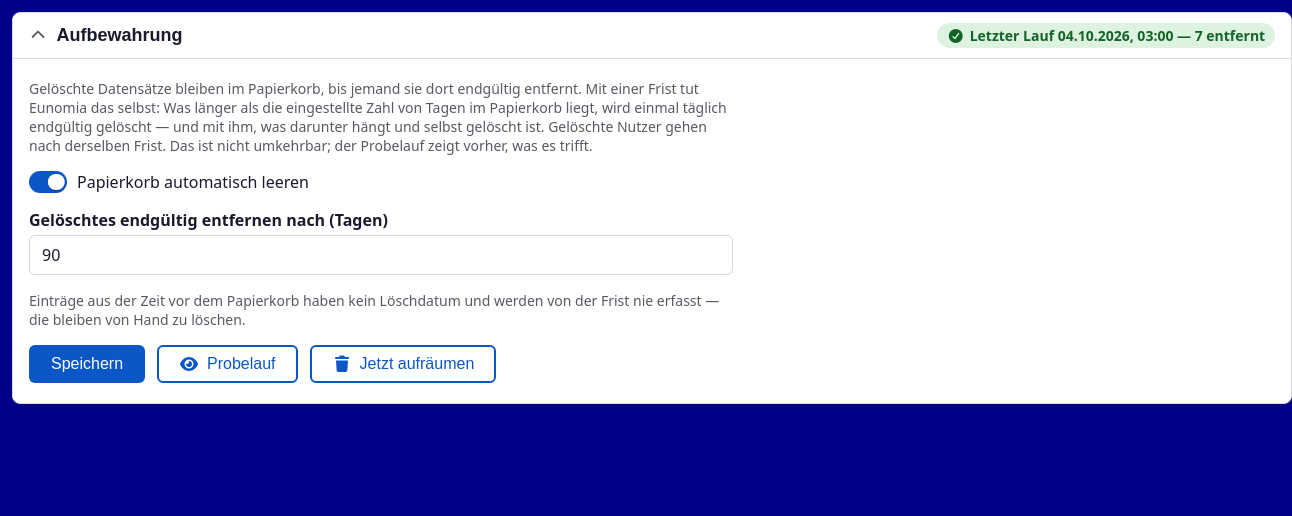
Test: RetentionSection › a dry run says what would go and that nothing went
Click the button "Probelauf" at (227, 364), box [157,345,298,383]
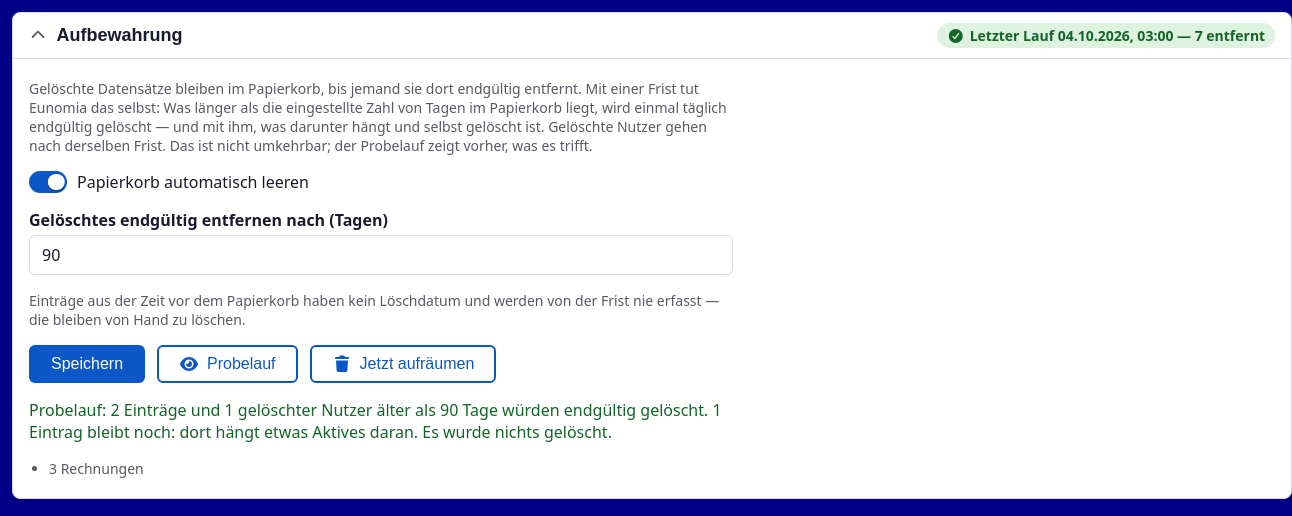
Now the text "2 Einträge" is shown, box [29,399,722,443]
Now the text "1 gelöschter Nutzer" is shown, box [29,399,722,443]
Now the text "Es wurde nichts gelöscht" is shown, box [29,399,722,443]
